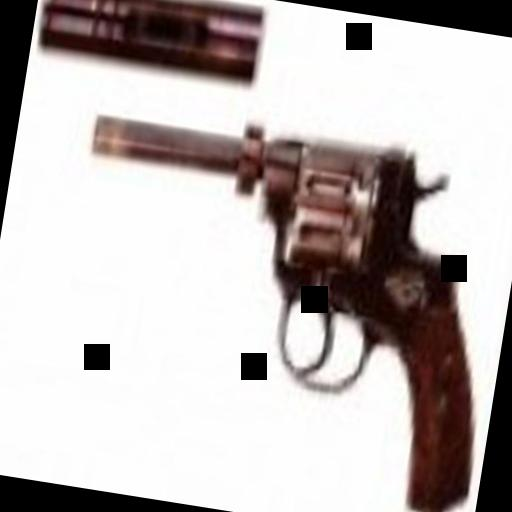Handgun: (42, 87, 512, 512)
